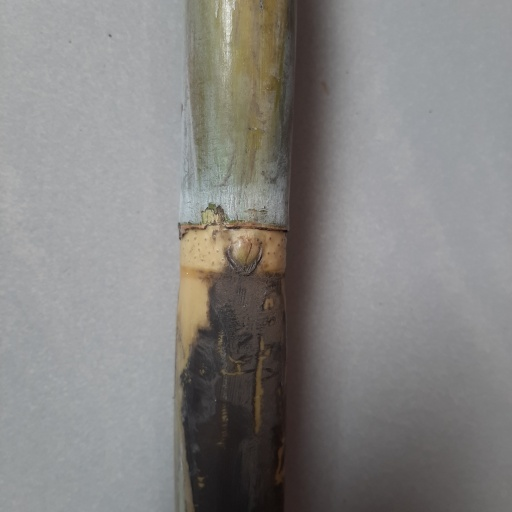Bud: (222, 232, 263, 275)
